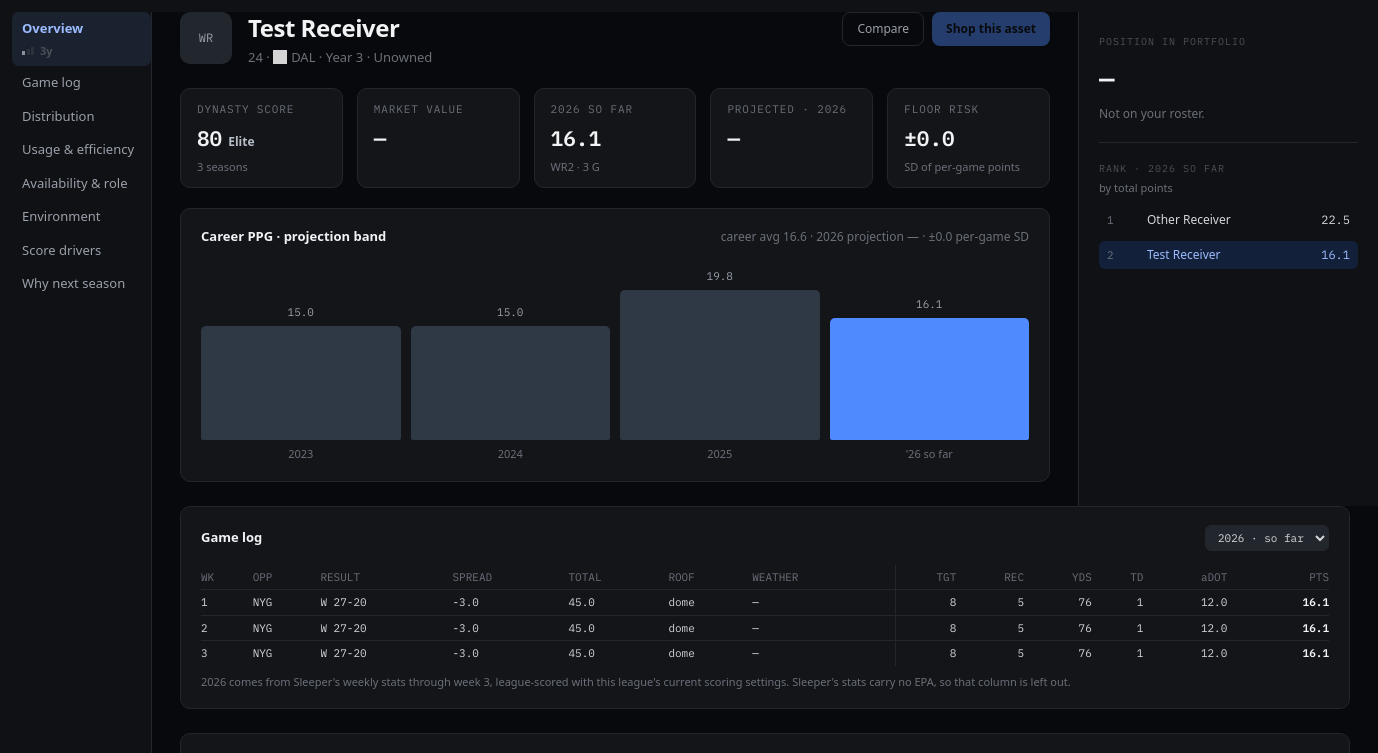
Test: PlayerDetailModal — game-log season switcher (P5c) › S-14: no loader in context → an unloaded older season degrades, never loads forever
Select "2024" in the dropdown with test id "game-log-season" at (1267, 538), box top-left (1205, 524), bottom-right (1329, 550)
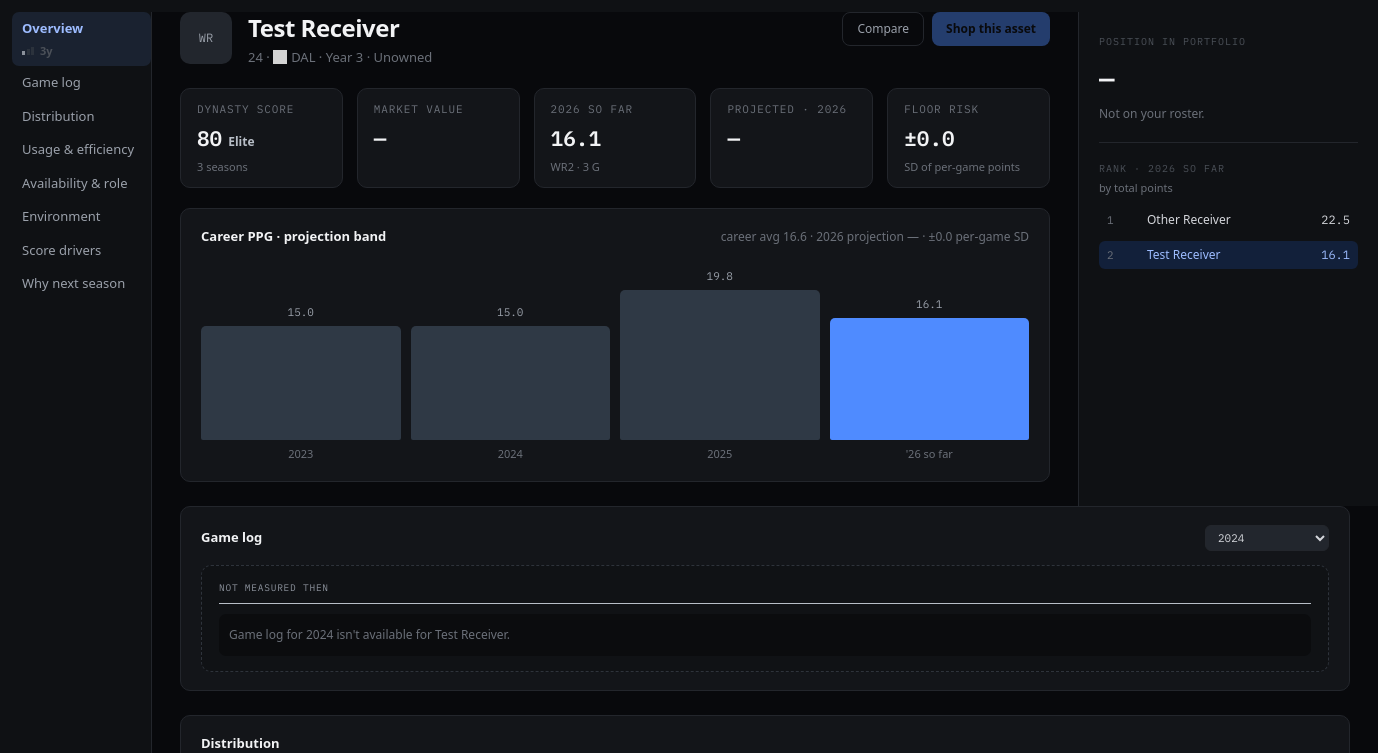
Now the text "Game log for 2024 isn't available for Test Receiver." is shown, box top-left (219, 614), bottom-right (1311, 656)
